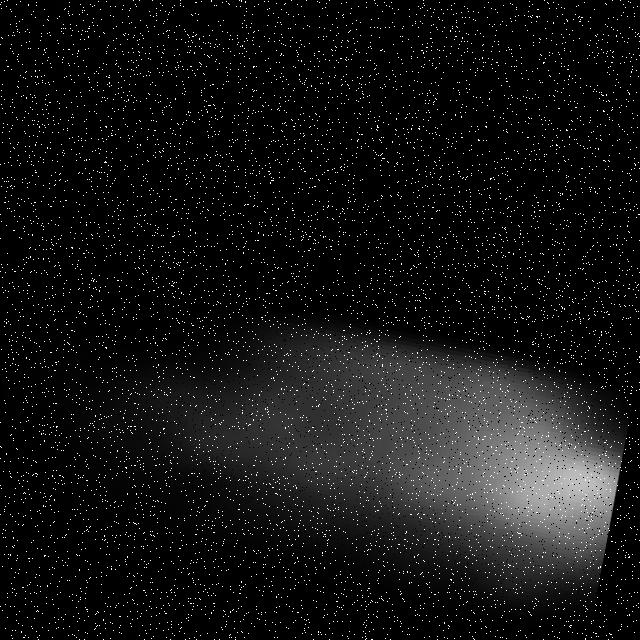person: (91, 261, 640, 613)
